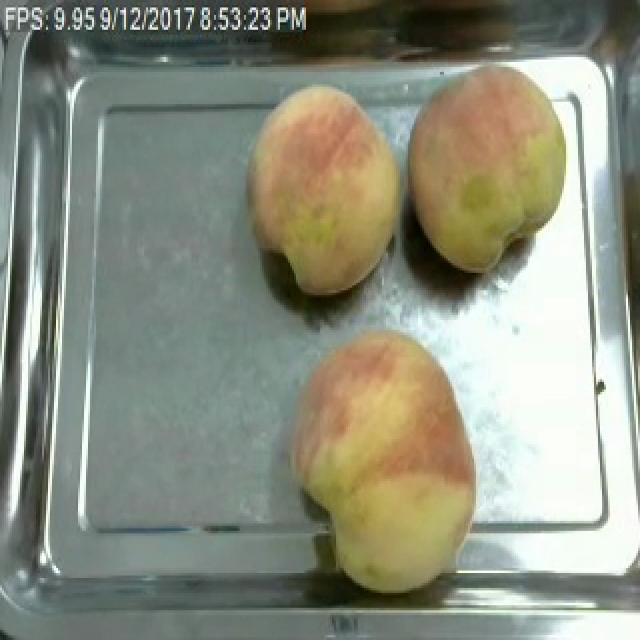Fruit: (278, 320, 486, 603), (398, 55, 586, 280), (238, 77, 414, 303)
